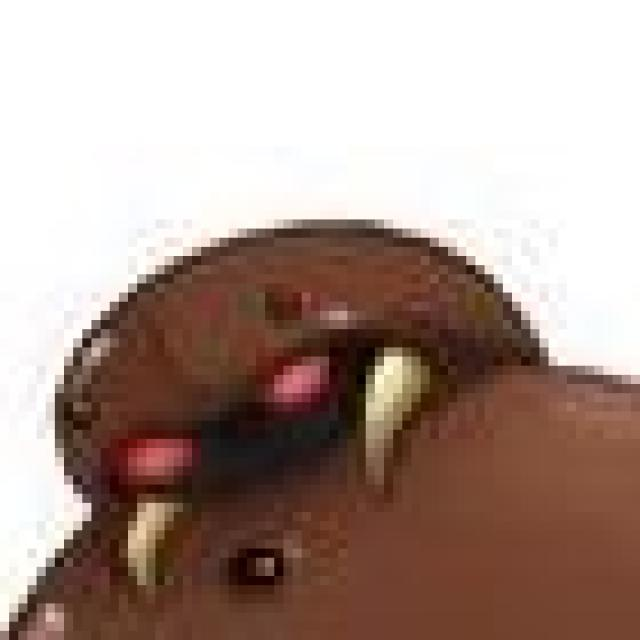Kabuto: (8, 194, 566, 575)
